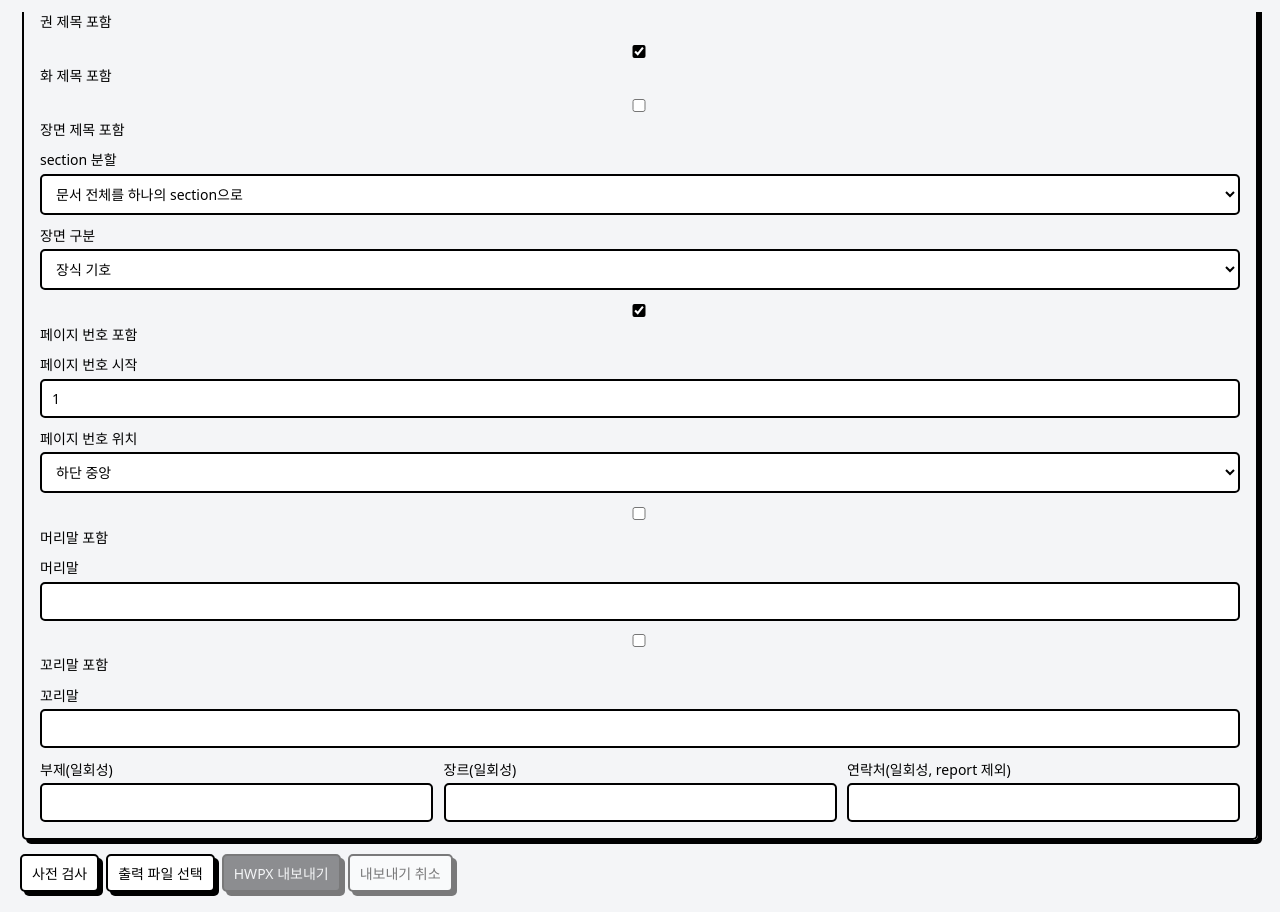
Test: Phase 1H HWPX export workspace › rejects a different project returned during export preparation
(page scrolled)
Click the button "사전 검사" at x=60, y=873, box x1=20 y1=854 x2=99 y2=892
(page scrolled)
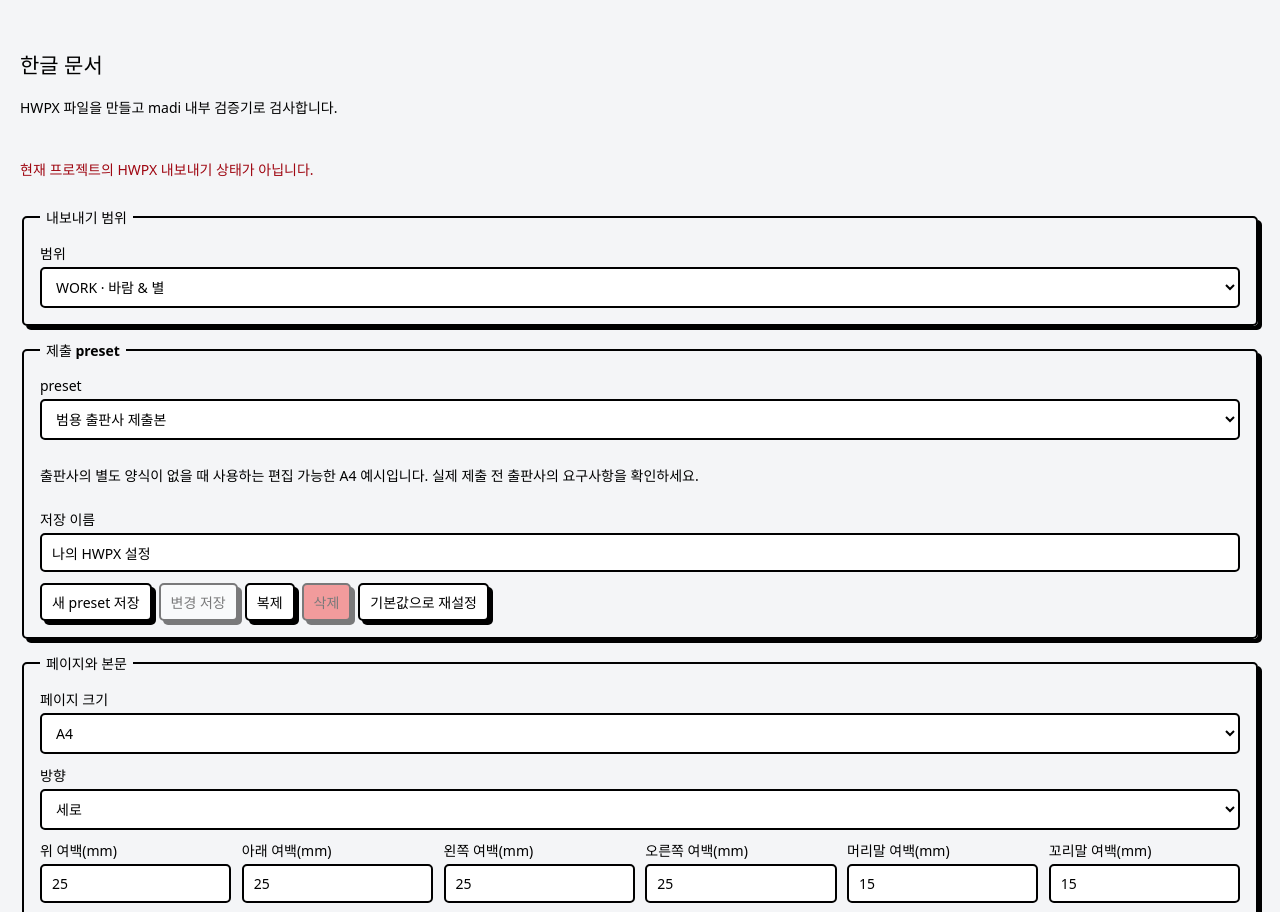
Expected: the message reads "현재 프로젝트의 HWPX 내보내기 상태가 아닙니다.", x1=20 y1=160 x2=314 y2=179
